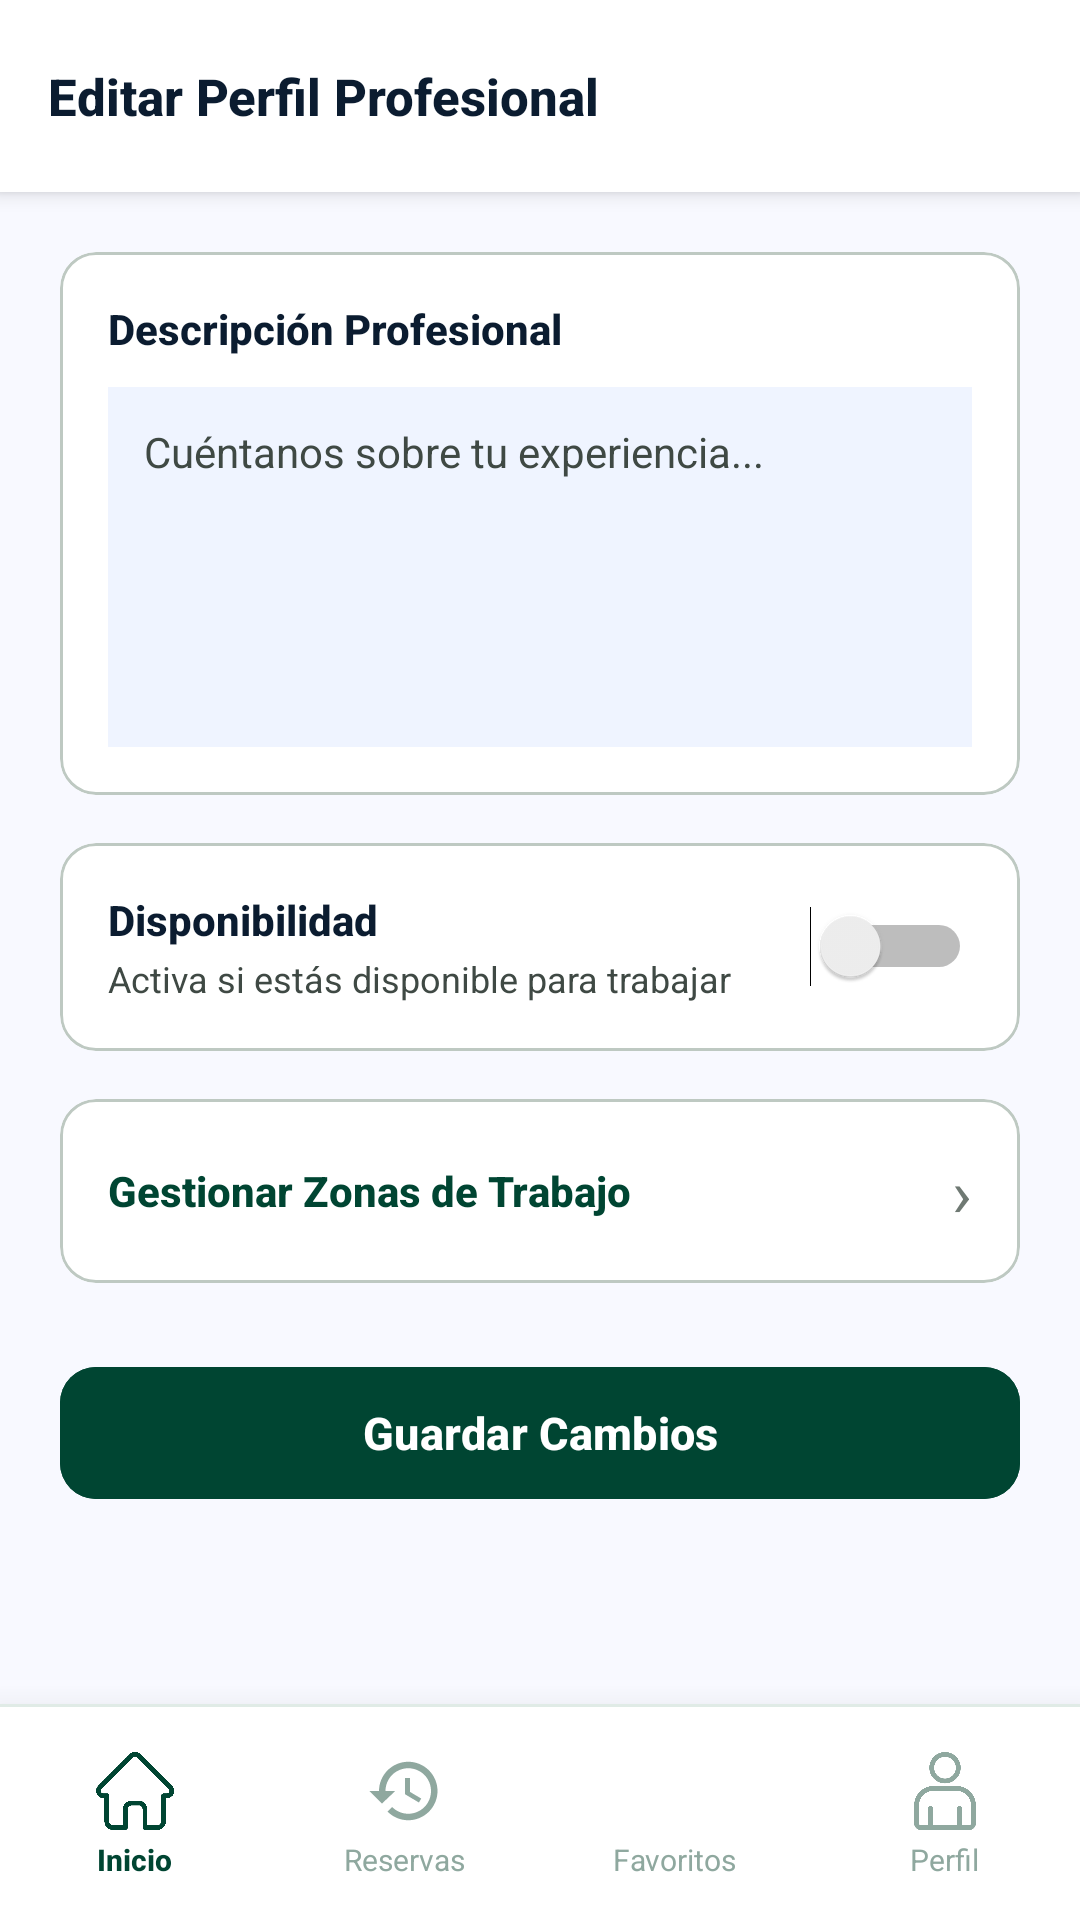

Icons on this 1080×1920 Android screen, each with the point to tap as (x=x, y=y):
historial: (x=404, y=1791)
